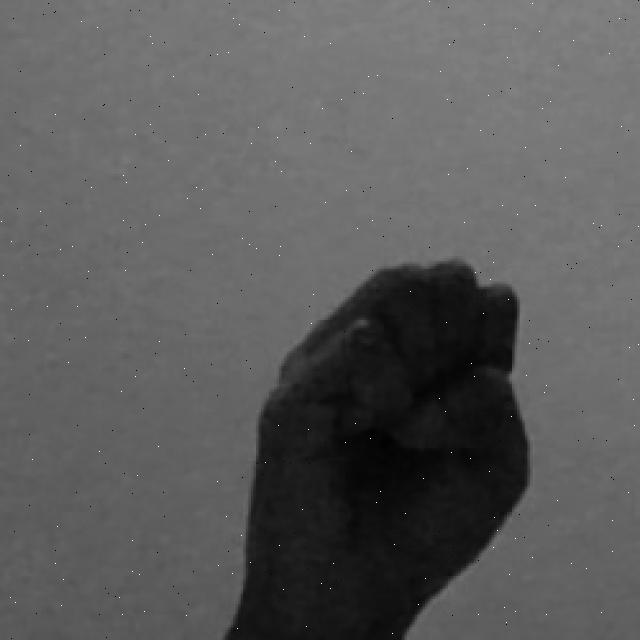S: (213, 250, 534, 640)
